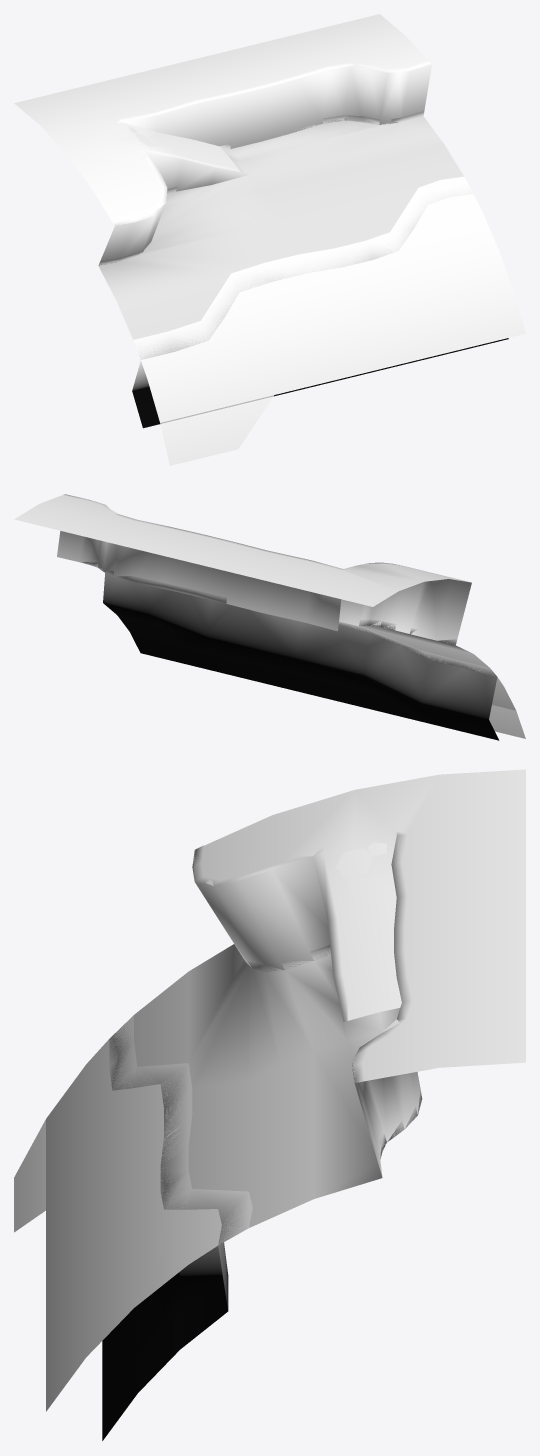
Rendered from grd_Mse_s_S_2.dae.
3 views of the same model, one above another, from view 1: azimuth 30°, elevation 25°; view 2: azimuth 150°, elevation 25°; view 3: azimuth 270°, elevation 25° (orthographic). The views are drawn at different scales.
Visible parts, largest first — view 1: grd_Mse_s_S_2; view 2: grd_Mse_s_S_2; view 3: grd_Mse_s_S_2.
Part boxes in pixels (left/top/right/bottom): grd_Mse_s_S_2: left=14, top=14, right=525, bottom=465; grd_Mse_s_S_2: left=14, top=494, right=525, bottom=740; grd_Mse_s_S_2: left=14, top=769, right=525, bottom=1440.
Bounding box in the file's own units: 512 × 332 × 378.
7 materials, 1 textured.
